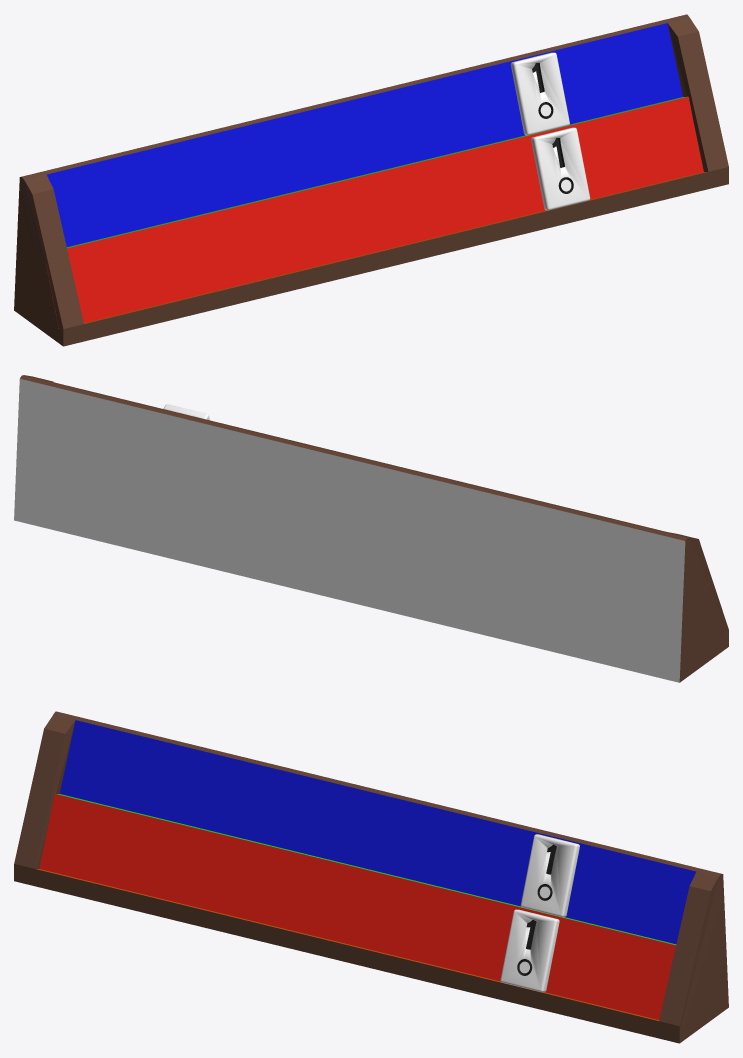
File: rack.glb
3 renders of one model, top to bottom at view 1: azimuth 30°, elevation 25°; view 2: azimuth 150°, elevation 25°; view 3: azimuth 330°, elevation 25°, orthographic.
Visible parts, largest first — view 1: rack, tile_bottom, tile_top; view 2: rack; view 3: rack, tile_bottom, tile_top.
Part boxes in pixels (x1,y1,x2,y2): rack: (14, 14, 728, 346); tile_bottom: (531, 127, 590, 210); tile_top: (510, 52, 569, 135); rack: (14, 375, 728, 682); rack: (14, 711, 728, 1043); tile_bottom: (500, 909, 559, 992); tile_top: (520, 834, 579, 917).
Bounding box in the file's own units: 40.06 × 8.02 × 5.14.
